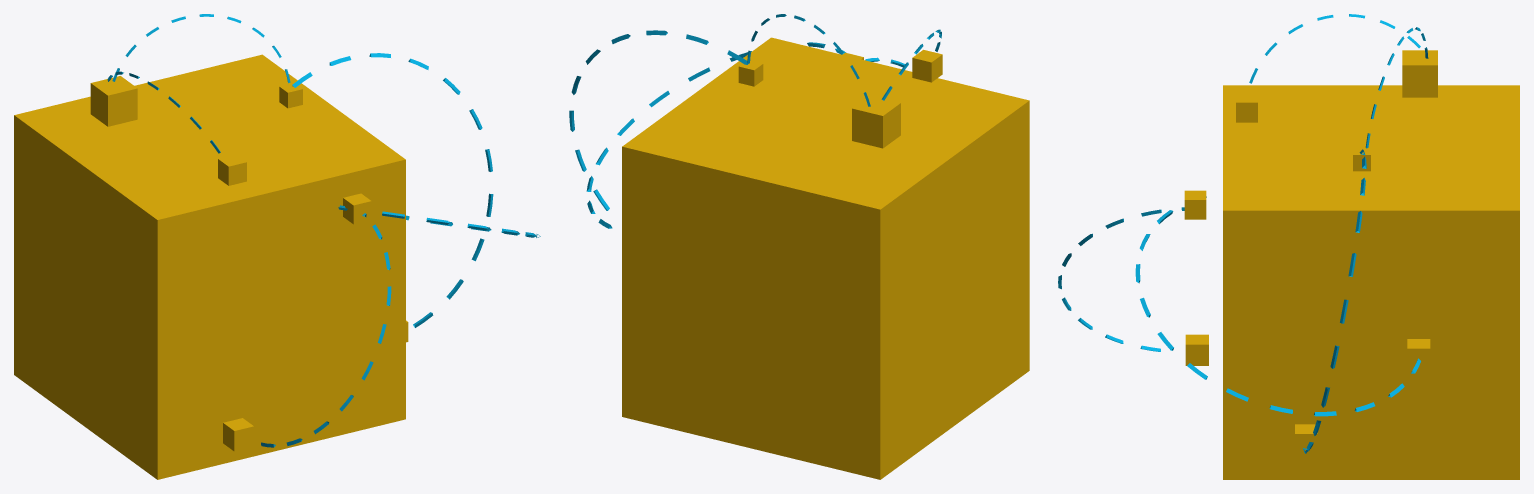
File: cube_trovecmnt.glb
3 views of the same model, side by side, from view 1: azimuth 30°, elevation 25°; view 2: azimuth 150°, elevation 25°; view 3: azimuth 270°, elevation 25° (orthographic). The views are drawn at different scales.
Visible parts, largest first — view 1: Cube, Cube.001, Tore.003, Cube.004, Cube.006, Cube.003, Tore.002, Tore.004; view 2: Cube, Cube.001, Tore.003, Cube.006, Tore.004, Cube.007; view 3: Cube, Cube.001, Tore.004, Tore.003, Cube.004, Cube.002, Cube.003, Tore.002, Cube.006, Cube.005.
Boxes of the visible parts, box(x1,y1,x2,y2) form: Cube: box(14, 54, 405, 479); Cube.001: box(90, 76, 137, 126); Tore.003: box(292, 53, 493, 327); Cube.004: box(223, 418, 253, 451); Cube.006: box(218, 154, 246, 185); Cube.003: box(343, 193, 371, 224); Tore.002: box(261, 213, 391, 447); Tore.004: box(338, 205, 540, 237); Cube: box(622, 37, 1029, 479); Cube.001: box(852, 95, 900, 148); Tore.003: box(569, 30, 747, 210); Cube.006: box(912, 49, 942, 82); Tore.004: box(586, 42, 846, 228); Cube.007: box(738, 60, 763, 86); Cube: box(1223, 85, 1519, 479); Cube.001: box(1402, 50, 1437, 97); Tore.004: box(1135, 196, 1420, 416); Tore.003: box(1303, 149, 1366, 453); Cube.004: box(1185, 334, 1208, 365); Cube.002: box(1407, 339, 1430, 369); Cube.003: box(1184, 190, 1206, 219); Tore.002: box(1058, 207, 1184, 351); Cube.006: box(1236, 93, 1257, 122); Cube.005: box(1295, 424, 1317, 454).
Bounding box in the file's own units: 4.66 × 4.25 × 4.64.
